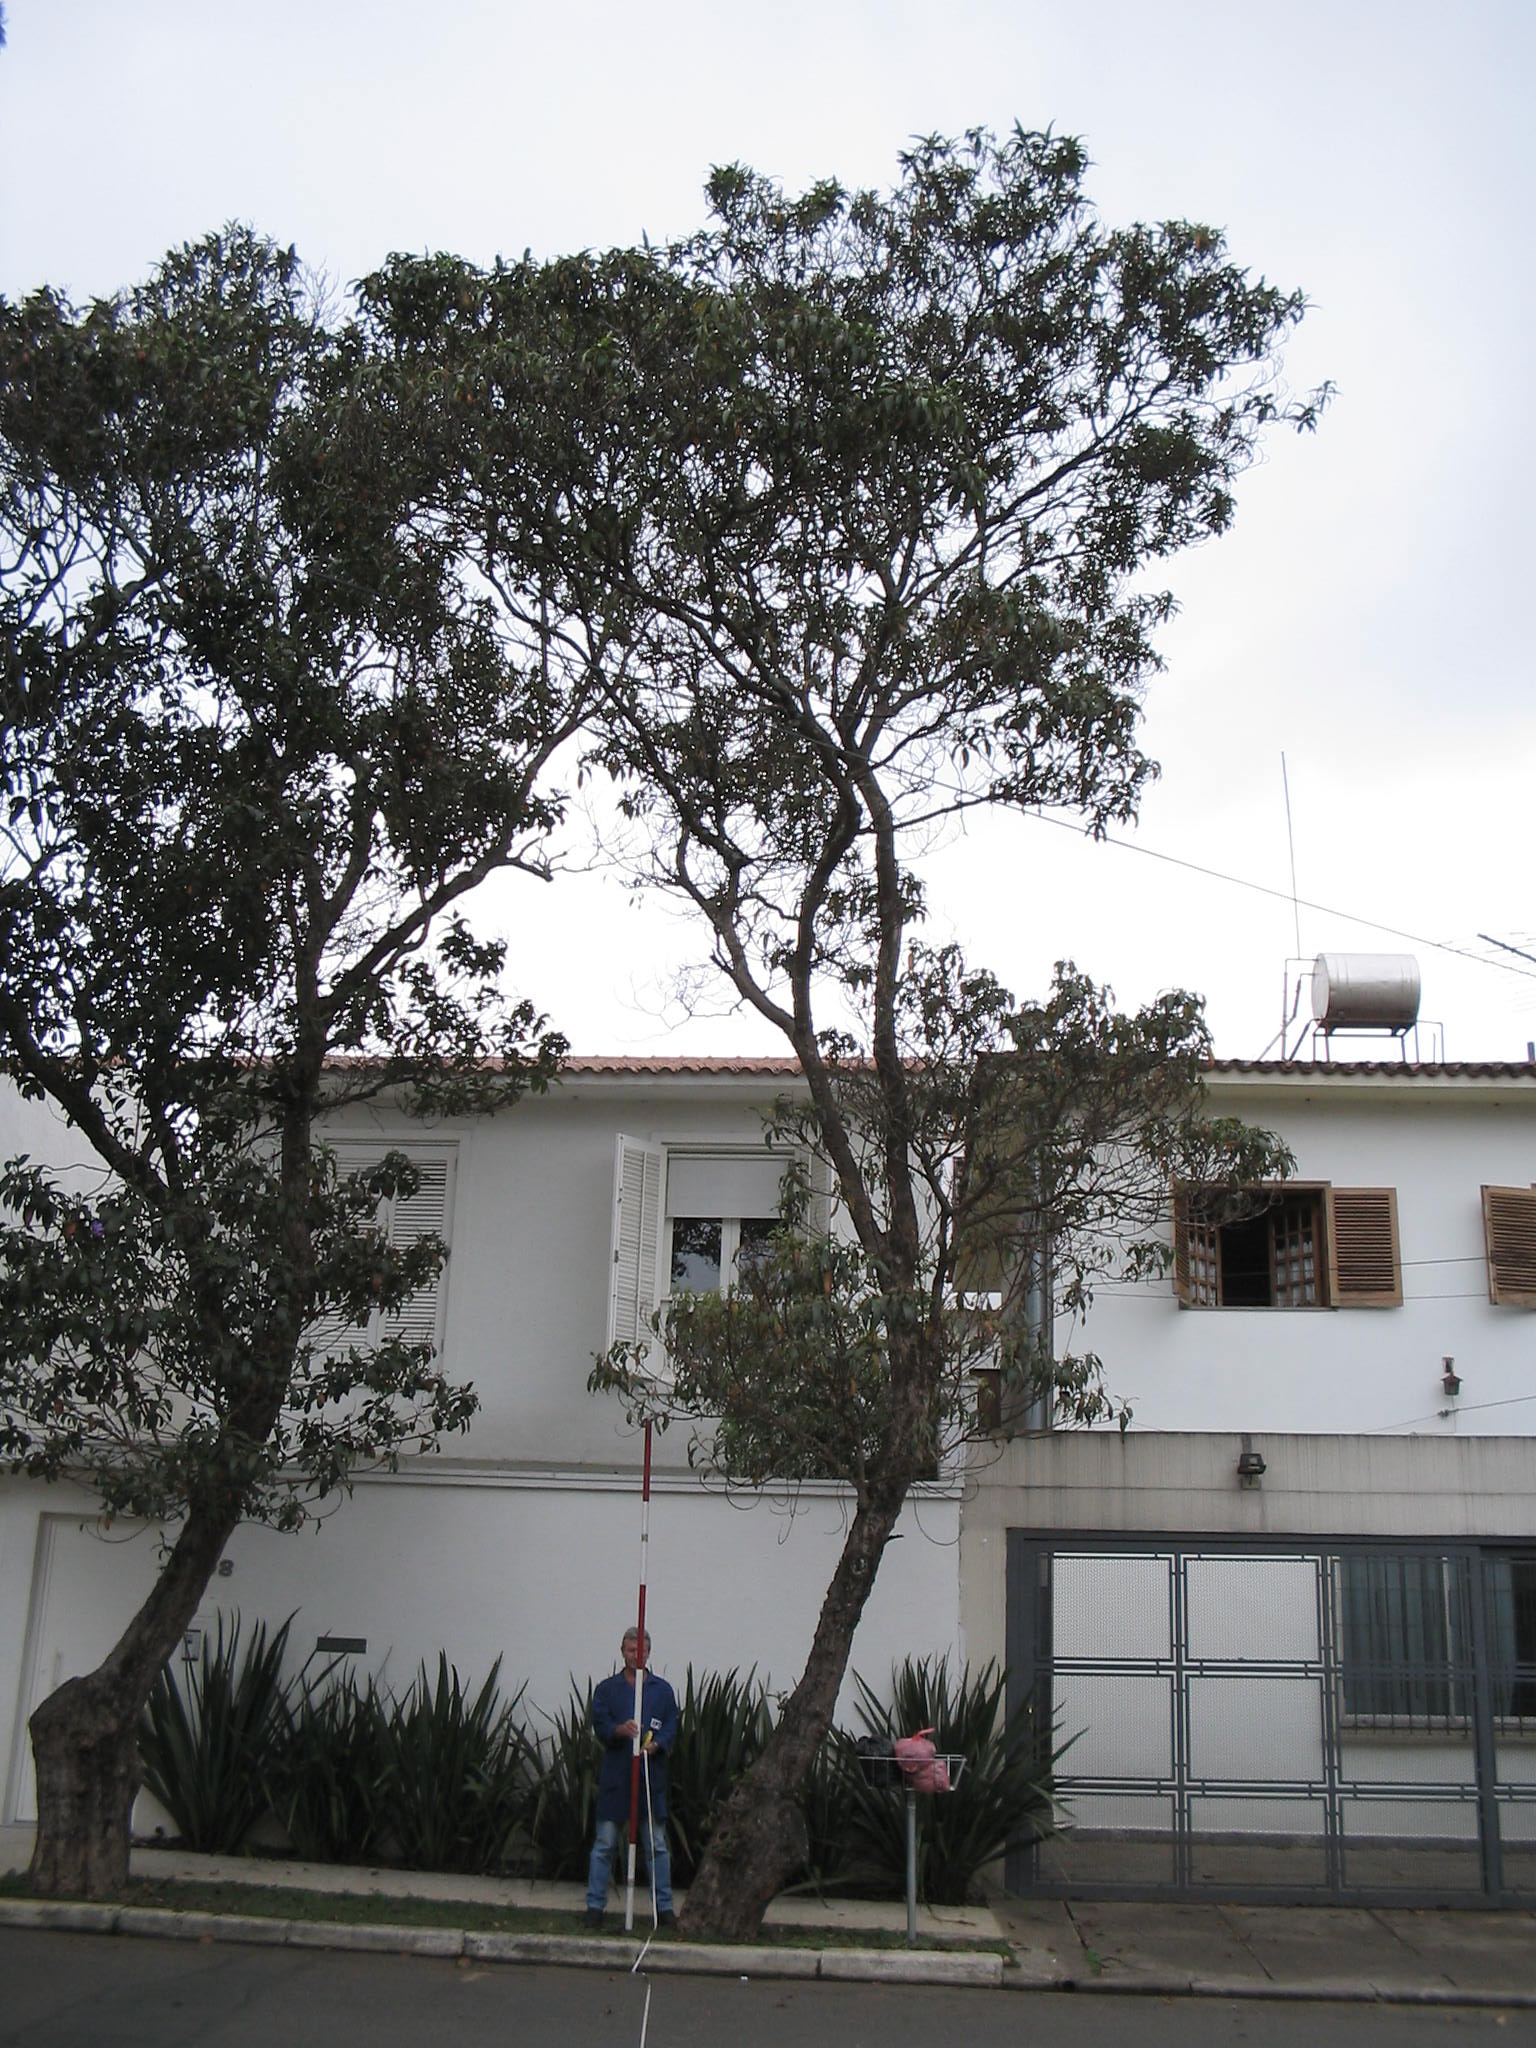crown: (287, 129, 1336, 926), (11, 218, 736, 1197)
stem: (670, 1242, 1033, 1934), (15, 1350, 315, 1887)
stick: (595, 1417, 687, 1935)
tree: (278, 126, 1338, 1940), (10, 216, 744, 1892)
